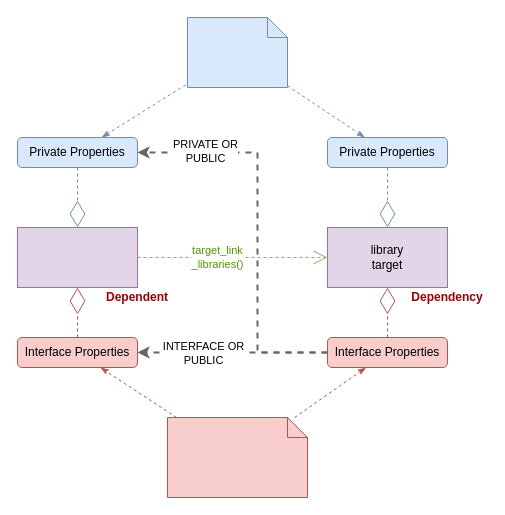
Some shapes in this 505 by 515 pixel diagram are drawn without their labels. Here are the shapes that lost their labels. From the top down, the centre of each, then its label:
point (237, 52): Build Settings: Used to build a target.
point (77, 257): executable target
point (237, 457): Usage Requirements: Used to build dependents of a target.
